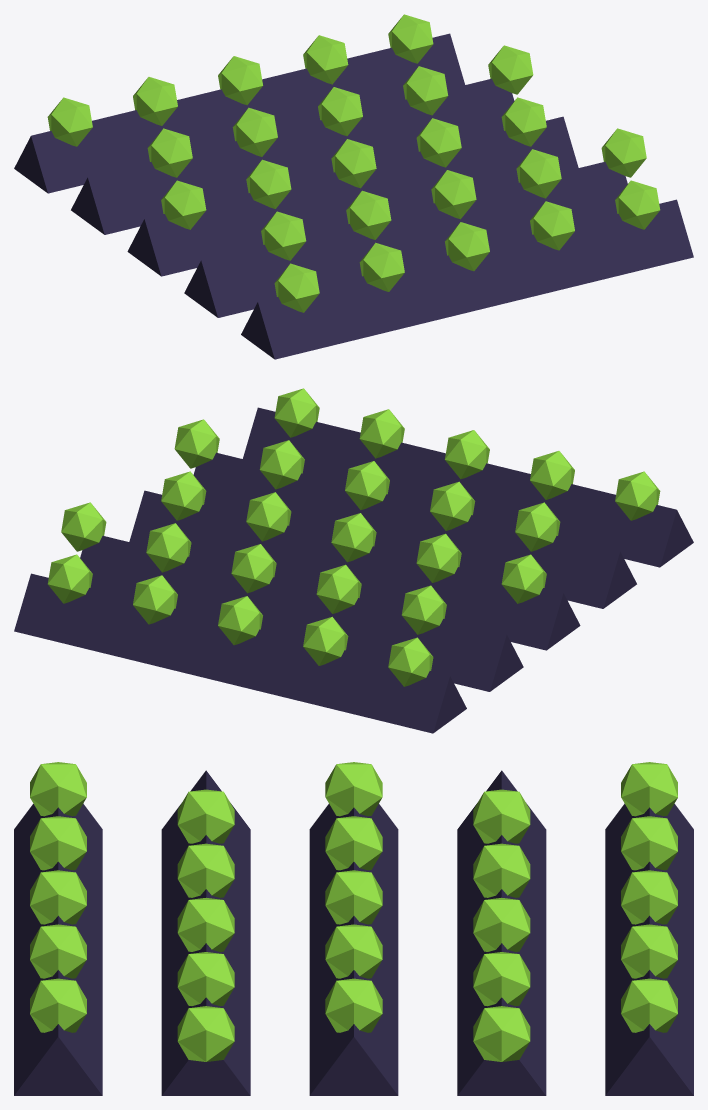
File: field.glb
The picture shows the model from 3 angles, top to bottom: view 1: azimuth 30°, elevation 25°; view 2: azimuth 150°, elevation 25°; view 3: azimuth 270°, elevation 25°; orthographic projection. The views are drawn at different scales.
Parts seen in each view (by area): view 1: Row0, Row0.001, Row0.003, Row0.002, Row0.004, Tuft0.003, Tuft0.001, Tuft0.002, Tuft0.004, Tuft0; view 2: Row0.004, Row0.001, Row0.003, Row0.002, Row0, Tuft0.001, Tuft0.003, Tuft0.002, Tuft0, Tuft0.004; view 3: Row0.002, Row0, Row0.004, Row0.001, Row0.003, Tuft0.001, Tuft0.003, Tuft0.002, Tuft0, Tuft0.004.
Boxes of the visible parts, <box> form: Row0: <box>241,199,693,359</box>; Row0.001: <box>184,162,627,317</box>; Row0.003: <box>71,78,514,234</box>; Row0.002: <box>127,116,578,276</box>; Row0.004: <box>14,33,464,193</box>; Tuft0.003: <box>147,45,533,177</box>; Tuft0.001: <box>261,128,646,260</box>; Tuft0.002: <box>161,97,546,229</box>; Tuft0.004: <box>47,14,433,146</box>; Tuft0: <box>274,180,660,312</box>; Row0.004: <box>14,573,466,733</box>; Row0.001: <box>193,452,636,608</box>; Row0.003: <box>80,536,523,691</box>; Row0.002: <box>129,490,580,650</box>; Row0: <box>243,407,693,567</box>; Tuft0.001: <box>174,419,560,551</box>; Tuft0.003: <box>61,502,446,634</box>; Tuft0.002: <box>161,471,546,603</box>; Tuft0: <box>274,388,660,520</box>; Tuft0.004: <box>47,554,433,686</box>; Row0.002: <box>309,804,398,1095</box>; Row0: <box>14,803,102,1095</box>; Row0.004: <box>605,803,693,1095</box>; Row0.001: <box>161,770,250,1095</box>; Row0.003: <box>457,770,546,1095</box>; Tuft0.001: <box>177,789,234,1061</box>; Tuft0.003: <box>473,789,530,1061</box>; Tuft0.002: <box>325,762,382,1032</box>; Tuft0: <box>30,762,86,1032</box>; Tuft0.004: <box>621,762,677,1032</box>.
Bounding box in the file's own units: 3.37 × 0.5051 × 3.45.
